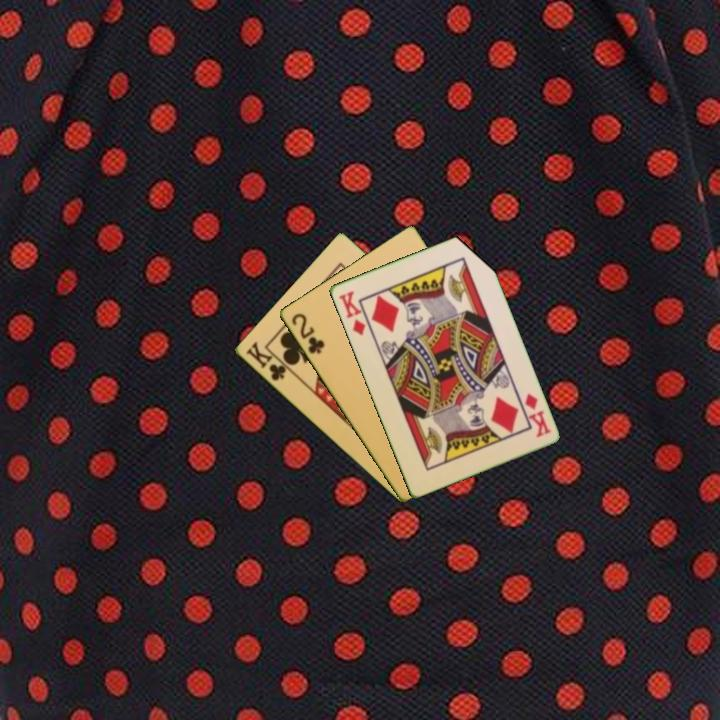2c: (287, 309, 327, 357)
Kc: (242, 338, 295, 384)
Kd: (335, 287, 368, 339), (521, 389, 554, 440)
